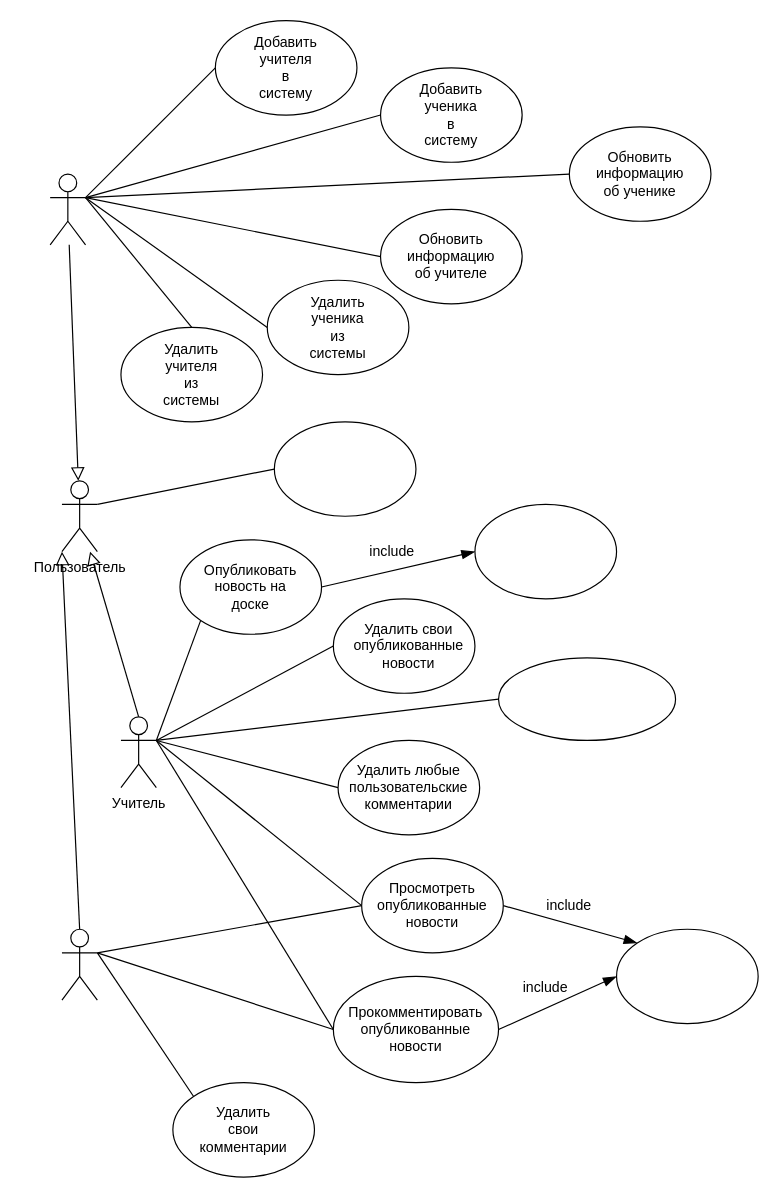
Image size: 779x1198. Some labels were removed from this diagram. Each missing label, with the centre of its shape:
"Администатор" goes at [67,209].
"Войти" goes at [344,468].
"Отредактировать опубликованную новость" goes at [586,698].
"Просмотреть опубликованные комментарии" goes at [686,976].
"Создать новую новость" goes at [545,551].
"Ученик" goes at [79,964].
